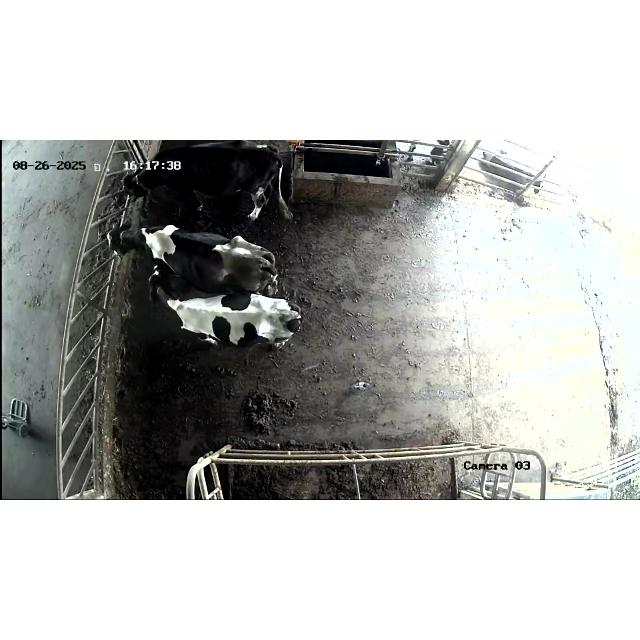stand: (151, 268, 313, 362), (121, 140, 297, 220), (104, 220, 286, 288)
